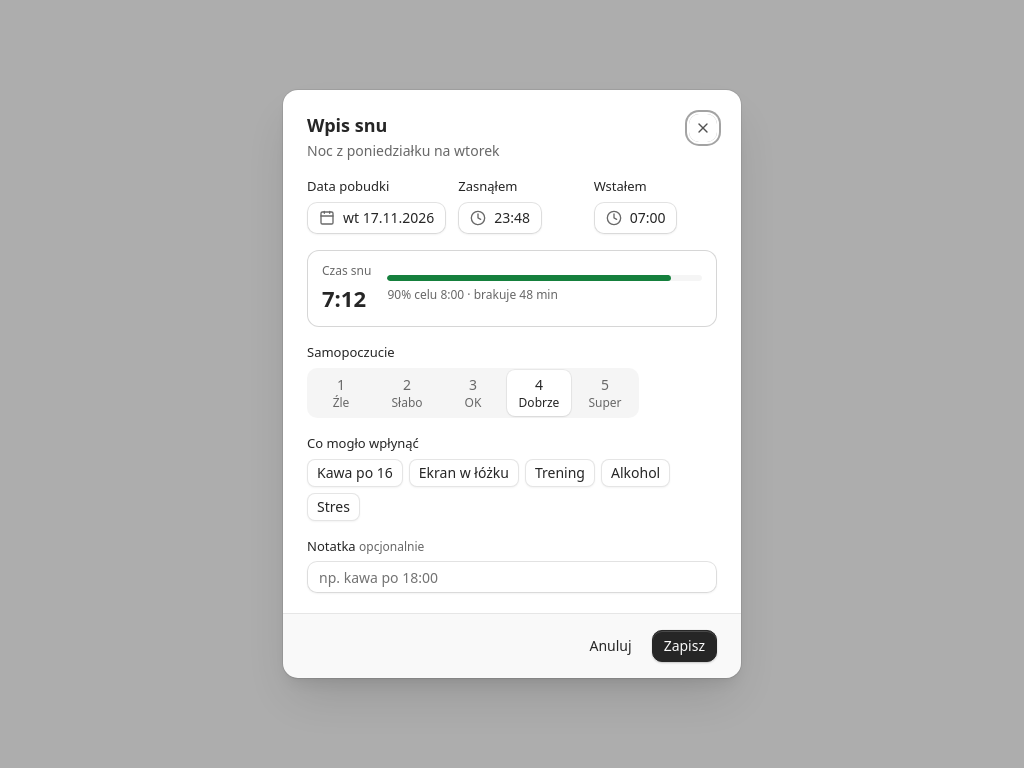
Scenario: SleepDialog › dni z przyszłości są zablokowane w kalendarzu
This screenshot has width=1024, height=768.
Click the button with aria-label "Data pobudki": {"x": 377, "y": 218} [307, 202, 446, 234]
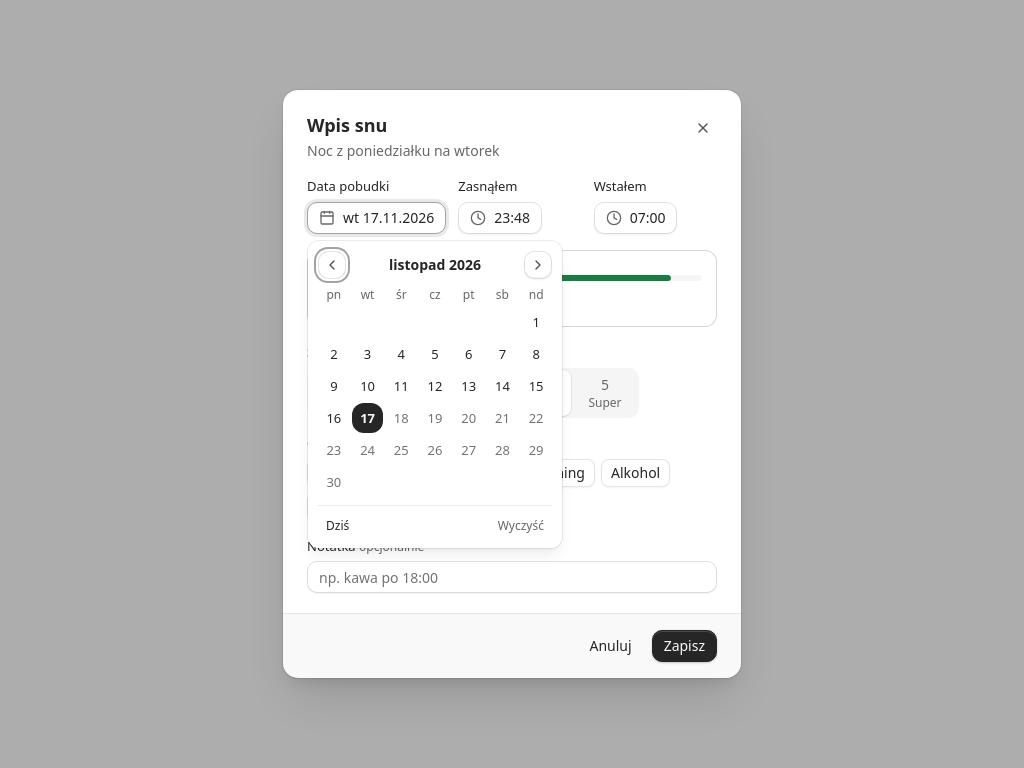
Now the button "18" is disabled, box [385, 403, 417, 433]
Now the button "16" is enabled, box [318, 403, 350, 433]
